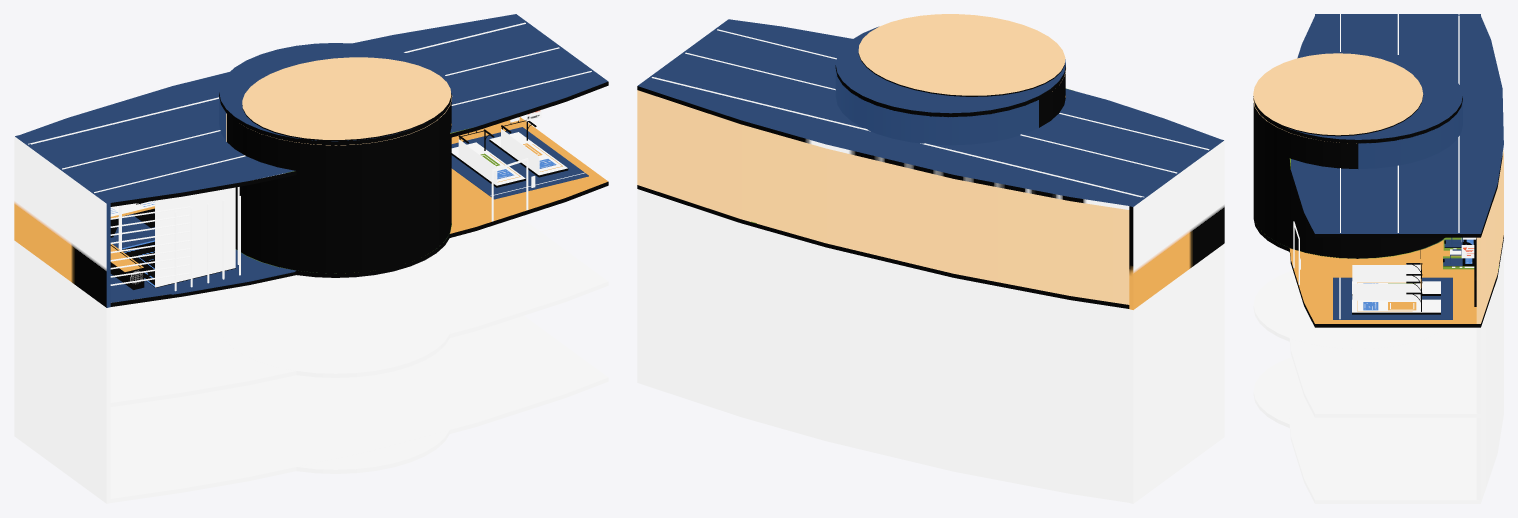
File: 休闲娱乐.fbx
The picture shows the model from 3 angles, left to right: view 1: azimuth 30°, elevation 25°; view 2: azimuth 150°, elevation 25°; view 3: azimuth 270°, elevation 25°; orthographic projection. The views are drawn at different scales.
Parts seen in each view (by area): view 1: 酒店, 圆柱_23, 圆柱_24, 立方体_5_4, 挤压_1, 立方体_3_4, 立方体_3_5, 立方体_4, 立方体_7_6, 立方体_6_2, 立方体_5, 立方体_7_5 (+2 smaller); view 2: 酒店, 圆柱_24, 立方体_3_5, 圆柱_23; view 3: 酒店, 圆柱_24, 圆柱_23, 立方体_3_4, 立方体_1_4, 立方体_4_4, 立方体_7_6, 立方体_3_5, 立方体_7_5.
Boxes of the visible parts, x1,y1,x2,y2 form: 酒店: (14, 14, 608, 503); 圆柱_23: (227, 100, 451, 273); 圆柱_24: (242, 57, 451, 141); 立方体_5_4: (155, 187, 235, 287); 挤压_1: (110, 213, 296, 302); 立方体_3_4: (451, 127, 588, 199); 立方体_3_5: (28, 22, 591, 192); 立方体_4: (110, 244, 144, 289); 立方体_7_6: (489, 132, 568, 177); 立方体_6_2: (122, 240, 235, 287); 立方体_5: (110, 200, 154, 237); 立方体_7_5: (451, 142, 525, 187); 酒店: (637, 19, 1224, 503); 圆柱_24: (858, 14, 1065, 96); 立方体_3_5: (651, 29, 1209, 197); 圆柱_23: (1039, 72, 1065, 127); 酒店: (1253, 14, 1503, 503); 圆柱_24: (1253, 53, 1423, 136); 圆柱_23: (1253, 103, 1444, 258); 立方体_3_4: (1333, 277, 1452, 319); 立方体_1_4: (1352, 283, 1420, 300); 立方体_4_4: (1352, 265, 1420, 281); 立方体_7_6: (1352, 299, 1440, 314); 立方体_3_5: (1340, 14, 1459, 232); 立方体_7_5: (1352, 281, 1440, 295).
Size of the model in its own units: 1915 by 1219 by 922.
